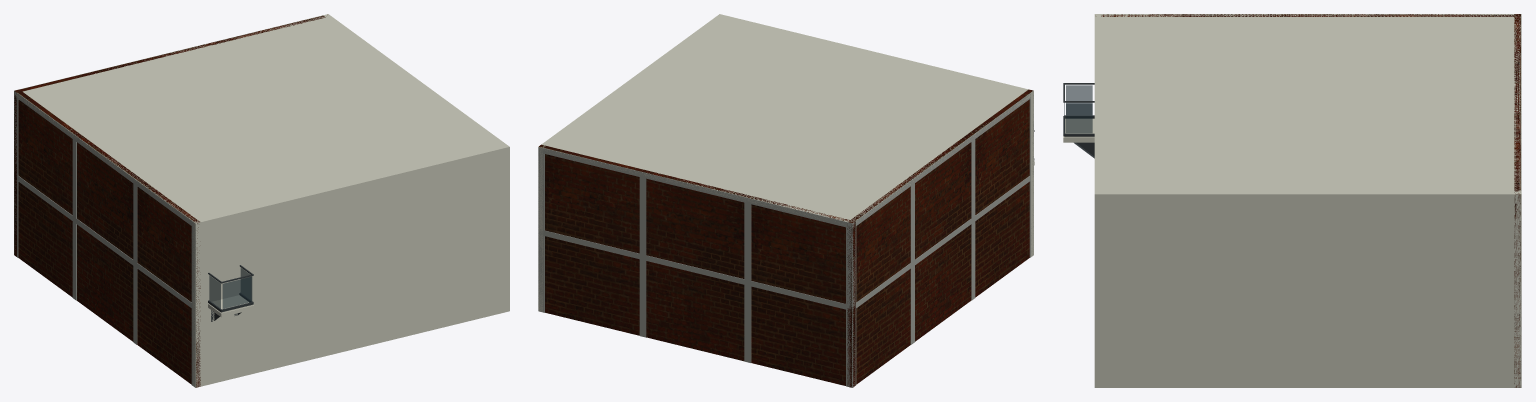
The model's file is building.glb.
3 views of the same model, side by side, from view 1: azimuth 30°, elevation 25°; view 2: azimuth 150°, elevation 25°; view 3: azimuth 270°, elevation 25° (orthographic). The views are drawn at different scales.
Visible parts, largest first — view 1: roof/house:0/roof_slab#0001, house:0/edge0/z0/house:0/edge0/z0/wall_0_0, house:0/edge3/z0/house:0/edge3/z0/wall_0_0, house:0/edge2/z0/house:0/edge2/z0/wall_0_0, house:0/edge1/z0/house:0/edge1/z0/wall_0_0, house:0/edge3/z0/house:0/edge3/z0/beam_0_0, house:0/edge3/z0/house:0/edge3/z0/beam_1_0, balcony/sample/balcony_glass#0002; view 2: roof/house:0/roof_slab#0001, house:0/edge2/z0/house:0/edge2/z0/wall_0_0, house:0/edge3/z0/house:0/edge3/z0/wall_0_0, house:0/edge2/z0/house:0/edge2/z0/beam_0_0, house:0/edge2/z0/house:0/edge2/z0/beam_1_0, house:0/edge1/z0/house:0/edge1/z0/wall_0_0, house:0/edge0/z0/house:0/edge0/z0/wall_0_0, house:0/edge3/z0/house:0/edge3/z0/beam_0_0, house:0/edge3/z0/house:0/edge3/z0/beam_1_0, house:0/edge2/z0/house:0/edge2/z0/column_2_1, house:0/edge2/z0/house:0/edge2/z0/column_2_0, house:0/edge2/z0/house:0/edge2/z0/column_3_0 (+5 smaller); view 3: house:0/edge1/z0/house:0/edge1/z0/wall_0_0, roof/house:0/roof_slab#0001, house:0/edge0/z0/house:0/edge0/z0/wall_0_0, house:0/edge2/z0/house:0/edge2/z0/wall_0_0, house:0/edge3/z0/house:0/edge3/z0/wall_0_0, balcony/sample/balcony_glass#0003, balcony/sample/balcony_glass#0001, balcony/sample/balcony_platform#0001.
Boxes of the visible parts, x1=… form: roof/house:0/roof_slab#0001: x1=14, y1=16, x2=509, y2=224; house:0/edge0/z0/house:0/edge0/z0/wall_0_0: x1=192, y1=144, x2=509, y2=387; house:0/edge3/z0/house:0/edge3/z0/wall_0_0: x1=15, y1=89, x2=200, y2=387; house:0/edge2/z0/house:0/edge2/z0/wall_0_0: x1=14, y1=14, x2=327, y2=256; house:0/edge1/z0/house:0/edge1/z0/wall_0_0: x1=323, y1=14, x2=509, y2=312; house:0/edge3/z0/house:0/edge3/z0/beam_0_0: x1=14, y1=175, x2=195, y2=310; house:0/edge3/z0/house:0/edge3/z0/beam_1_0: x1=14, y1=91, x2=195, y2=227; balcony/sample/balcony_glass#0002: x1=222, y1=277, x2=251, y2=308; roof/house:0/roof_slab#0001: x1=538, y1=14, x2=1033, y2=226; house:0/edge2/z0/house:0/edge2/z0/wall_0_0: x1=539, y1=144, x2=855, y2=387; house:0/edge3/z0/house:0/edge3/z0/wall_0_0: x1=847, y1=89, x2=1033, y2=387; house:0/edge2/z0/house:0/edge2/z0/beam_0_0: x1=538, y1=229, x2=852, y2=310; house:0/edge2/z0/house:0/edge2/z0/beam_1_0: x1=538, y1=147, x2=852, y2=228; house:0/edge1/z0/house:0/edge1/z0/wall_0_0: x1=538, y1=14, x2=723, y2=312; house:0/edge0/z0/house:0/edge0/z0/wall_0_0: x1=718, y1=14, x2=1033, y2=256; house:0/edge3/z0/house:0/edge3/z0/beam_0_0: x1=852, y1=173, x2=1033, y2=310; house:0/edge3/z0/house:0/edge3/z0/beam_1_0: x1=852, y1=91, x2=1033, y2=228; house:0/edge2/z0/house:0/edge2/z0/column_2_1: x1=639, y1=259, x2=646, y2=337; house:0/edge2/z0/house:0/edge2/z0/column_2_0: x1=639, y1=177, x2=646, y2=255; house:0/edge2/z0/house:0/edge2/z0/column_3_0: x1=744, y1=202, x2=751, y2=280; house:0/edge1/z0/house:0/edge1/z0/wall_0_0: x1=1094, y1=191, x2=1521, y2=387; roof/house:0/roof_slab#0001: x1=1094, y1=14, x2=1521, y2=198; house:0/edge0/z0/house:0/edge0/z0/wall_0_0: x1=1094, y1=14, x2=1101, y2=387; house:0/edge2/z0/house:0/edge2/z0/wall_0_0: x1=1514, y1=14, x2=1520, y2=387; house:0/edge3/z0/house:0/edge3/z0/wall_0_0: x1=1101, y1=14, x2=1514, y2=16; balcony/sample/balcony_glass#0003: x1=1066, y1=103, x2=1092, y2=133; balcony/sample/balcony_glass#0001: x1=1066, y1=85, x2=1092, y2=114; balcony/sample/balcony_platform#0001: x1=1064, y1=118, x2=1094, y2=137.
Size of the model in its own units: 12 by 6 by 12.88.
Materials: 5 (1 with a texture image).
